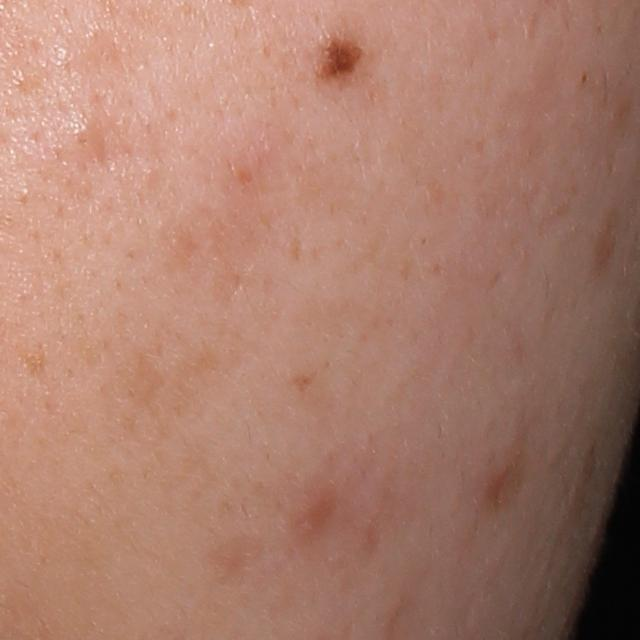comedo: (63, 109, 105, 158)
nevus: (316, 25, 376, 82)
